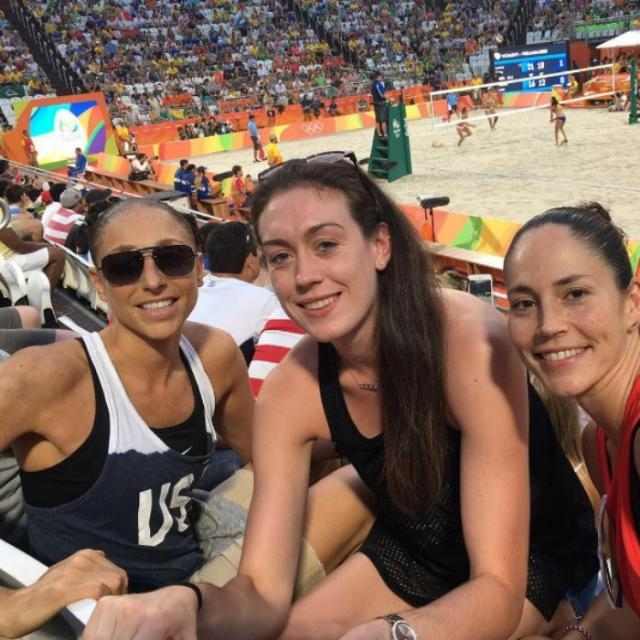body: (80, 146, 612, 640), (0, 195, 382, 640), (0, 0, 640, 140), (497, 198, 639, 640), (524, 368, 622, 621), (0, 154, 52, 556), (183, 218, 291, 375), (429, 262, 507, 316), (176, 210, 228, 272), (43, 188, 91, 250), (52, 179, 123, 210), (368, 68, 393, 140), (245, 111, 270, 166), (548, 94, 568, 147), (65, 144, 88, 188), (454, 105, 478, 147), (127, 152, 157, 182), (230, 162, 250, 206), (482, 86, 500, 131), (194, 165, 214, 203), (20, 129, 39, 167), (264, 132, 284, 167), (180, 162, 198, 195), (470, 70, 485, 106), (445, 89, 461, 122), (174, 158, 189, 192), (117, 117, 133, 143)
